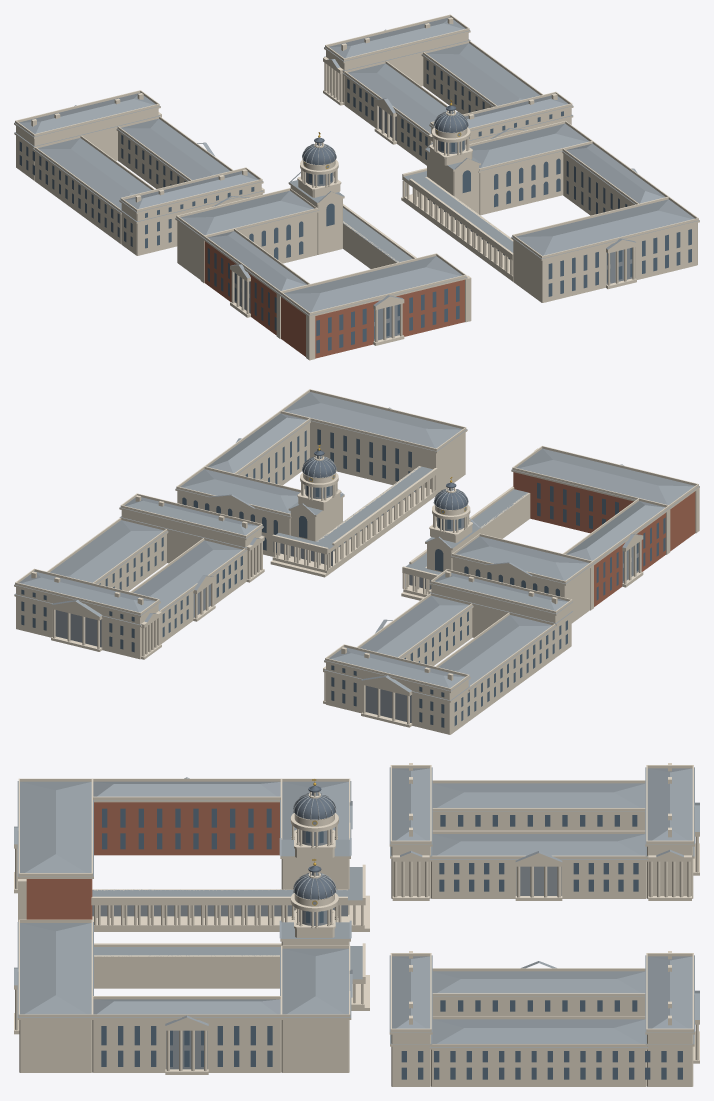
File: london-old-royal-naval-college.detail.glb
The picture shows the model from 3 angles, top to bottom: view 1: azimuth 30°, elevation 25°; view 2: azimuth 150°, elevation 25°; view 3: azimuth 270°, elevation 25°; orthographic projection. The views are drawn at different scales.
Parts seen in each view (by area): view 1: Old Royal Naval College; view 2: Old Royal Naval College; view 3: Old Royal Naval College.
Boxes of the visible parts, x1,y1,x2,y2 form: Old Royal Naval College: (14, 14, 699, 360); Old Royal Naval College: (14, 389, 699, 734); Old Royal Naval College: (14, 763, 699, 1086).
Size of the model in its own units: 189 by 45.3 by 207.
